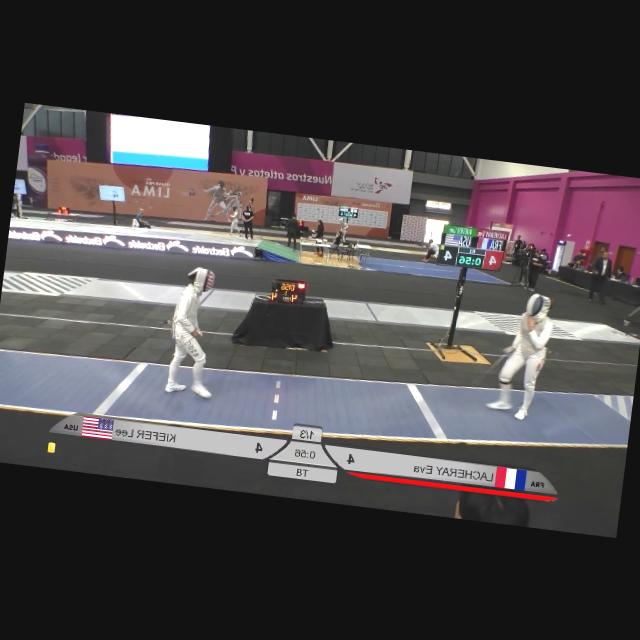blade: (467, 343, 512, 395)
